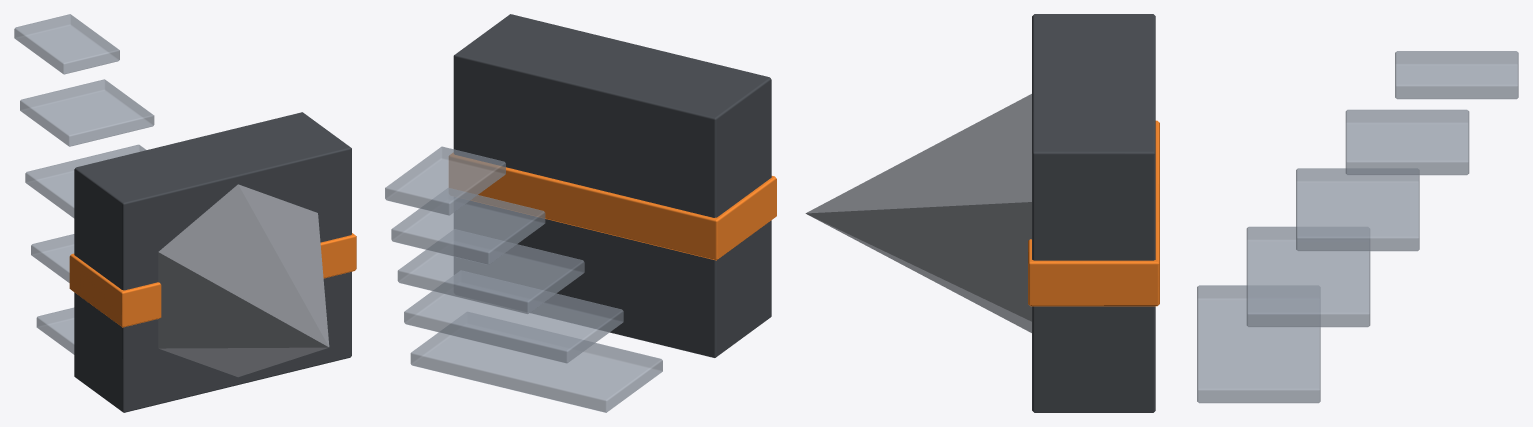
The model's file is landslide_charge.glb.
3 renders of one model, left to right at view 1: azimuth 30°, elevation 25°; view 2: azimuth 150°, elevation 25°; view 3: azimuth 270°, elevation 25°, orthographic. The views are drawn at different scales.
Visible parts, largest first — view 1: ram_body, ram_wedge, speed_line_3, ram_band, speed_line_4, speed_line_2, speed_line_1, speed_line_0; view 2: ram_body, speed_line_0, ram_band, speed_line_1, speed_line_2, speed_line_3, speed_line_4; view 3: ram_body, ram_wedge, speed_line_0, speed_line_1, speed_line_2, speed_line_3, ram_band, speed_line_4.
Part boxes in pixels (x1=…): ram_body: x1=74, y1=112, x2=351, y2=412; ram_wedge: x1=158, y1=184, x2=329, y2=377; speed_line_3: x1=20, y1=79, x2=154, y2=146; ram_band: x1=69, y1=233, x2=356, y2=327; speed_line_4: x1=14, y1=14, x2=119, y2=74; speed_line_2: x1=25, y1=144, x2=146, y2=218; speed_line_1: x1=31, y1=234, x2=74, y2=282; speed_line_0: x1=36, y1=307, x2=74, y2=354; ram_body: x1=453, y1=14, x2=771, y2=357; speed_line_0: x1=410, y1=312, x2=662, y2=412; ram_band: x1=449, y1=153, x2=776, y2=260; speed_line_1: x1=404, y1=271, x2=623, y2=363; speed_line_2: x1=397, y1=229, x2=584, y2=314; speed_line_3: x1=391, y1=188, x2=545, y2=264; speed_line_4: x1=385, y1=146, x2=505, y2=215; ram_body: x1=1032, y1=14, x2=1155, y2=412; ram_wedge: x1=805, y1=94, x2=1031, y2=332; speed_line_0: x1=1197, y1=285, x2=1320, y2=403; speed_line_1: x1=1246, y1=226, x2=1370, y2=327; speed_line_2: x1=1296, y1=168, x2=1419, y2=251; speed_line_3: x1=1345, y1=109, x2=1469, y2=175; ram_band: x1=1028, y1=120, x2=1159, y2=306; speed_line_4: x1=1395, y1=51, x2=1518, y2=99.
Size of the model in its own units: 0.82 by 0.76 by 1.73.
